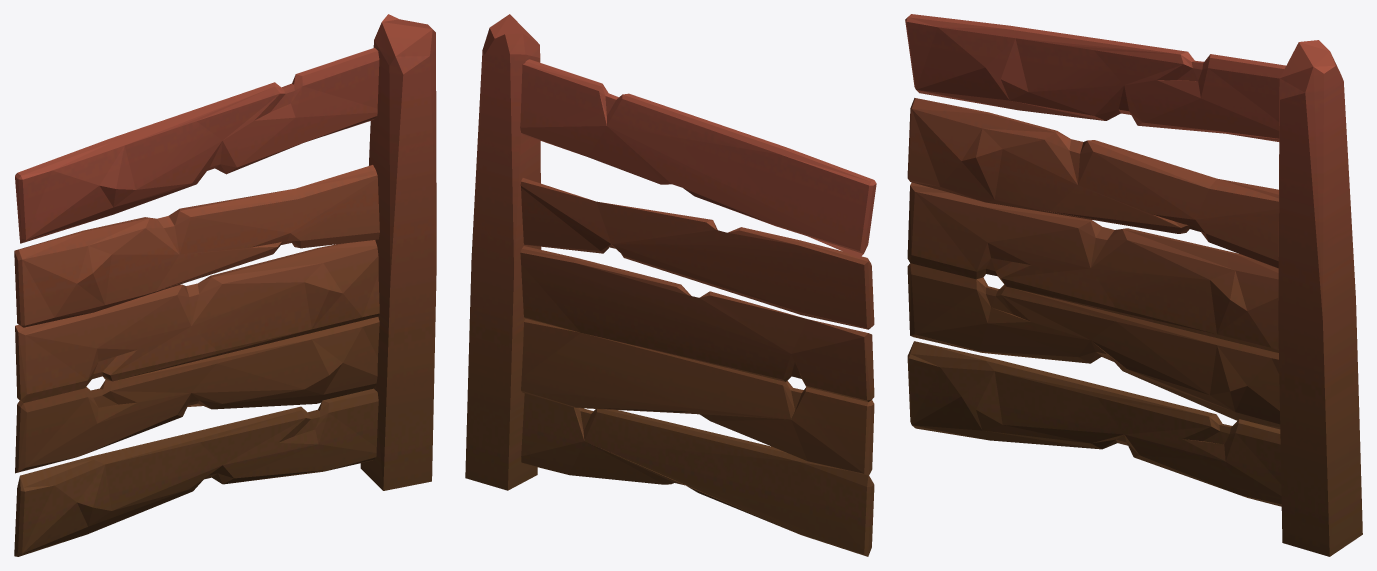
The picture shows the model from 3 angles, left to right: view 1: azimuth 30°, elevation 25°; view 2: azimuth 150°, elevation 25°; view 3: azimuth 330°, elevation 25°; orthographic projection. The views are drawn at different scales.
Visible parts, largest first — view 1: WoodenWallDamaged1; view 2: WoodenWallDamaged1; view 3: WoodenWallDamaged1.
Boxes of the visible parts, left/top/right/bottom form: WoodenWallDamaged1: left=14, top=14, right=436, bottom=556; WoodenWallDamaged1: left=465, top=14, right=876, bottom=556; WoodenWallDamaged1: left=905, top=14, right=1362, bottom=556.
Size of the model in its own units: 111 by 120 by 18.56.
1 material, 1 textured.
